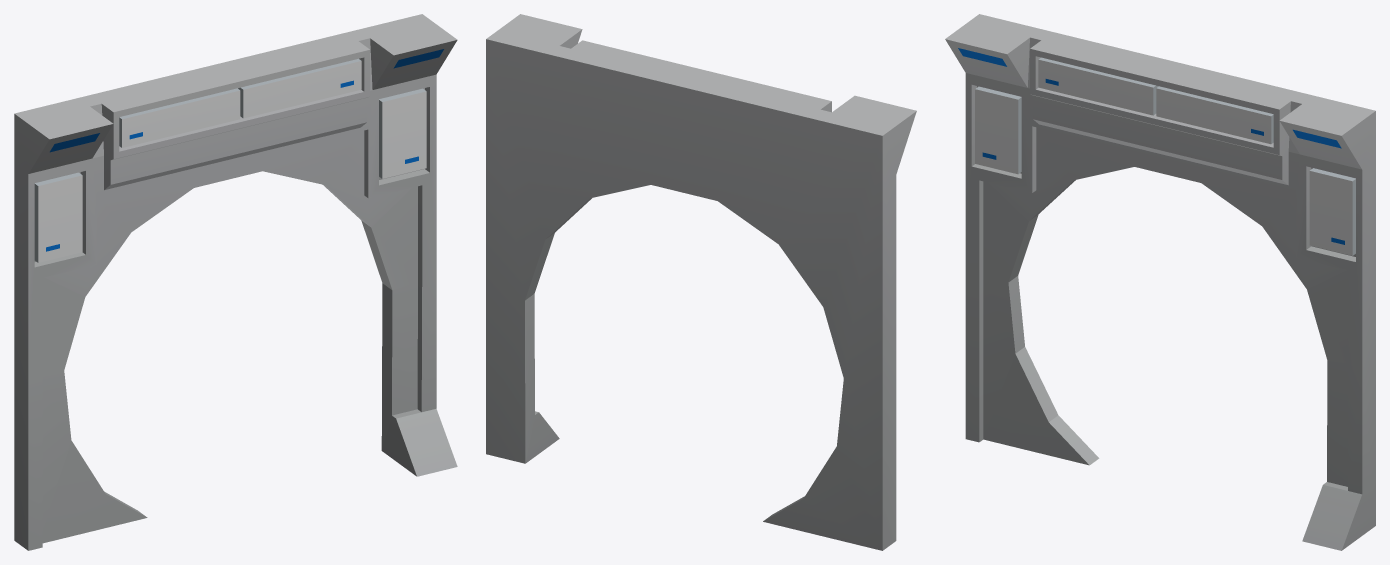
File: Wall_type_A_065.fbx
3 views of the same model, side by side, from view 1: azimuth 30°, elevation 25°; view 2: azimuth 150°, elevation 25°; view 3: azimuth 330°, elevation 25° (orthographic). The views are drawn at different scales.
Visible parts, largest first — view 1: Wall_type_A_065; view 2: Wall_type_A_065; view 3: Wall_type_A_065.
Boxes of the visible parts, x1,y1,x2,y2 form: Wall_type_A_065: (14,14,457,550); Wall_type_A_065: (486,14,916,550); Wall_type_A_065: (945,14,1375,550).
Size of the model in its own units: 400 by 60 by 400.
